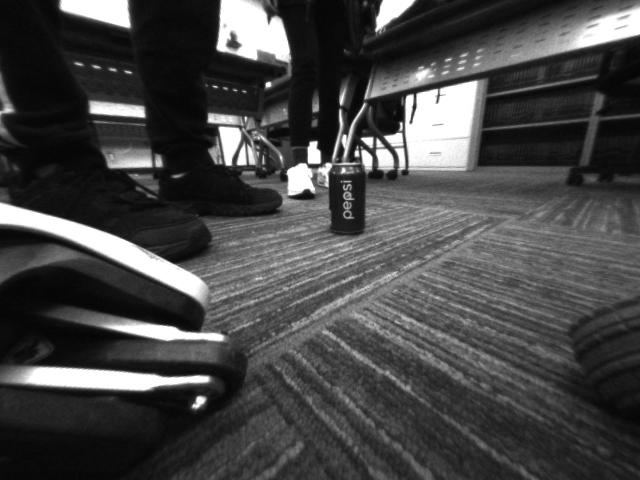can: (326, 159, 370, 236)
